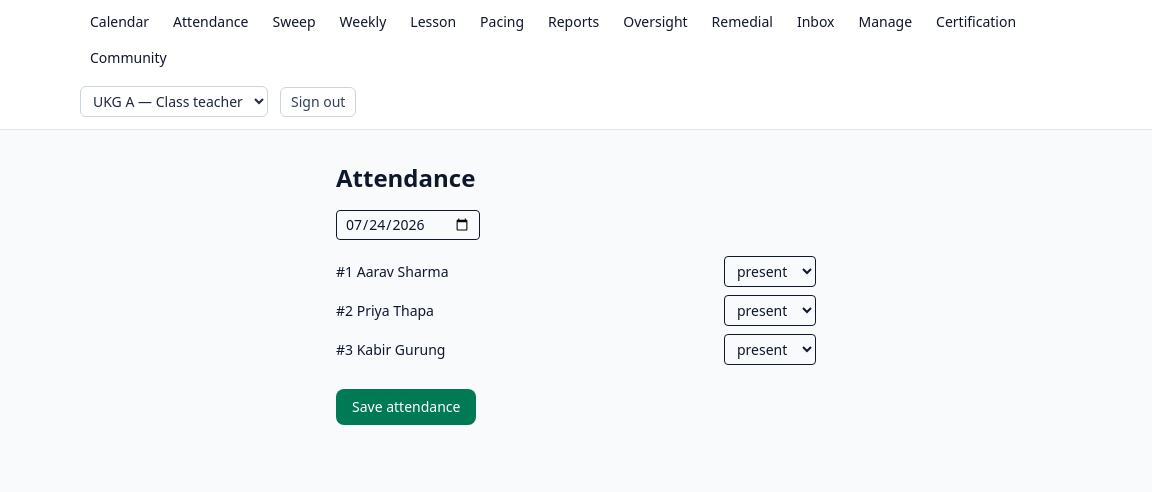
it: AttendancePage › shows an error message when saving fails
The width and height of the screenshot is (1152, 492).
Step 1. Click the button "Save attendance" → [406, 407], box 336,389 -> 476,425
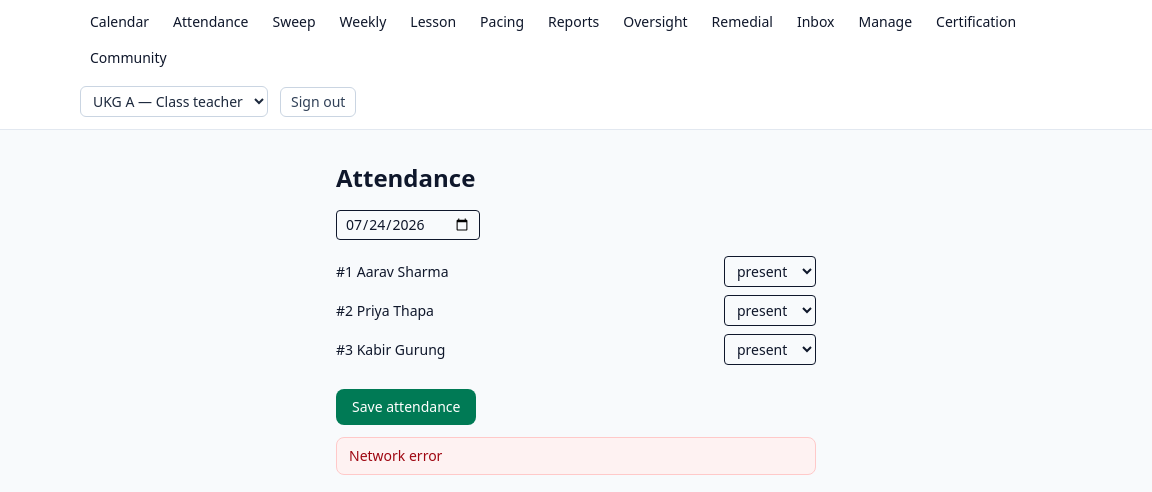
expect the message reads "Network error": met, box 349,446 -> 442,465
